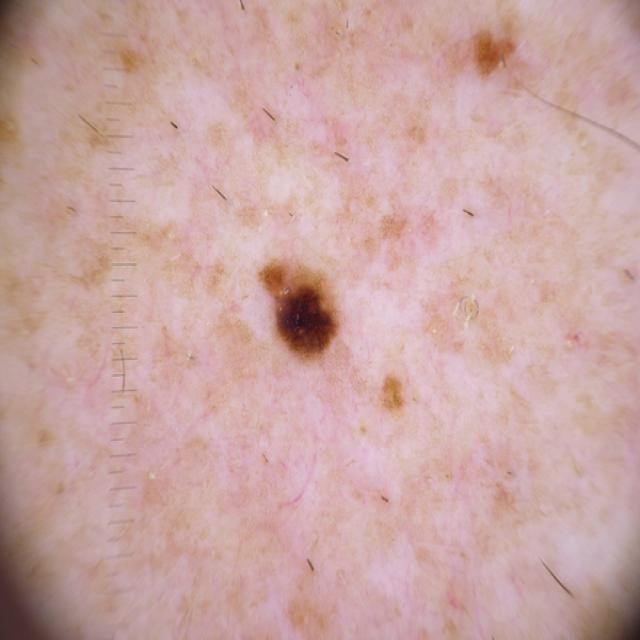NV: (257, 255, 342, 366)
